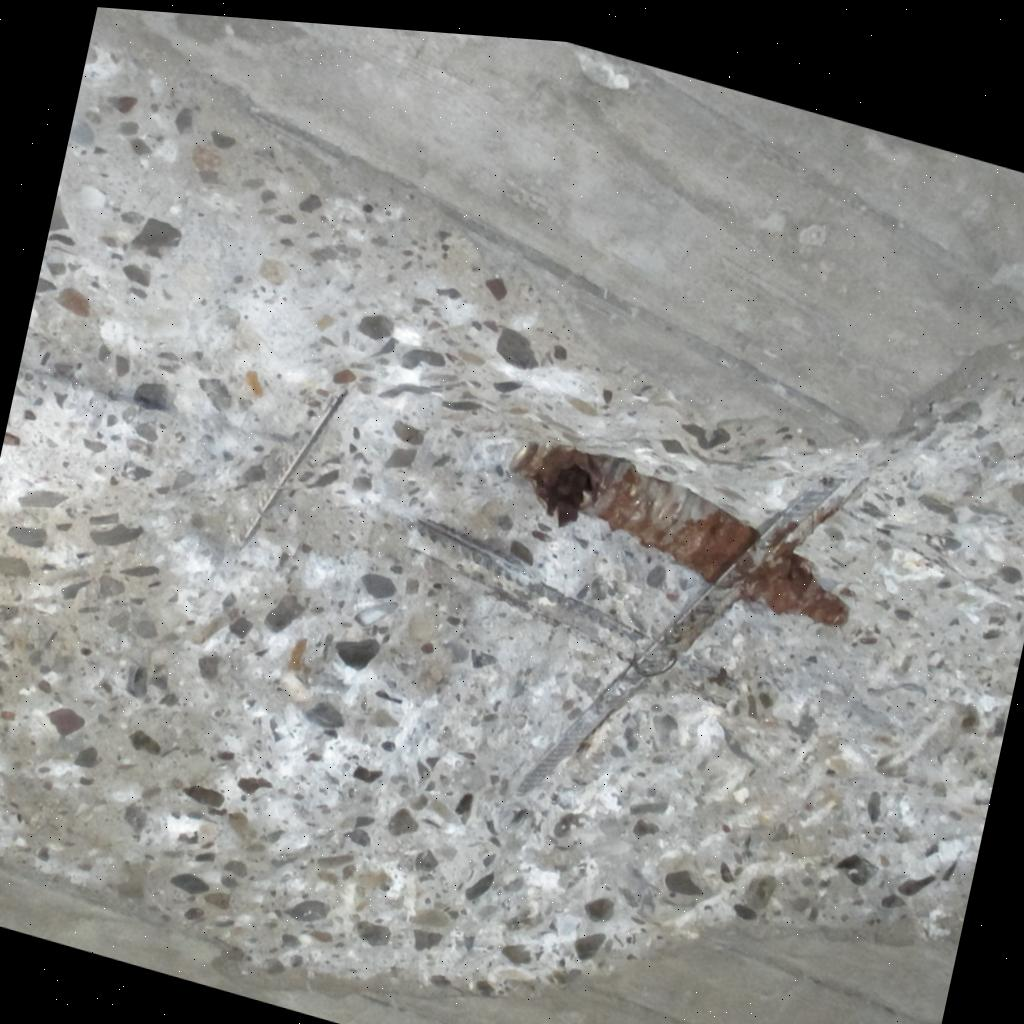exposed_rebar: (411, 443, 858, 793), (244, 395, 343, 541), (678, 659, 731, 704)
spalling: (0, 46, 1024, 985)
